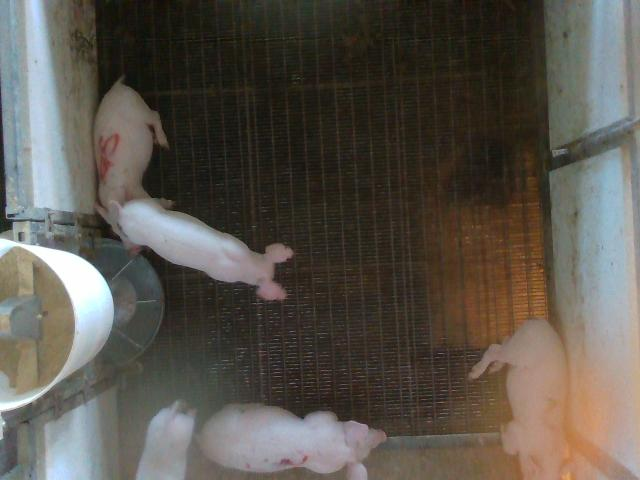pig-2: (469, 319, 569, 479)
pig-5: (198, 404, 386, 479), (94, 76, 169, 248)
